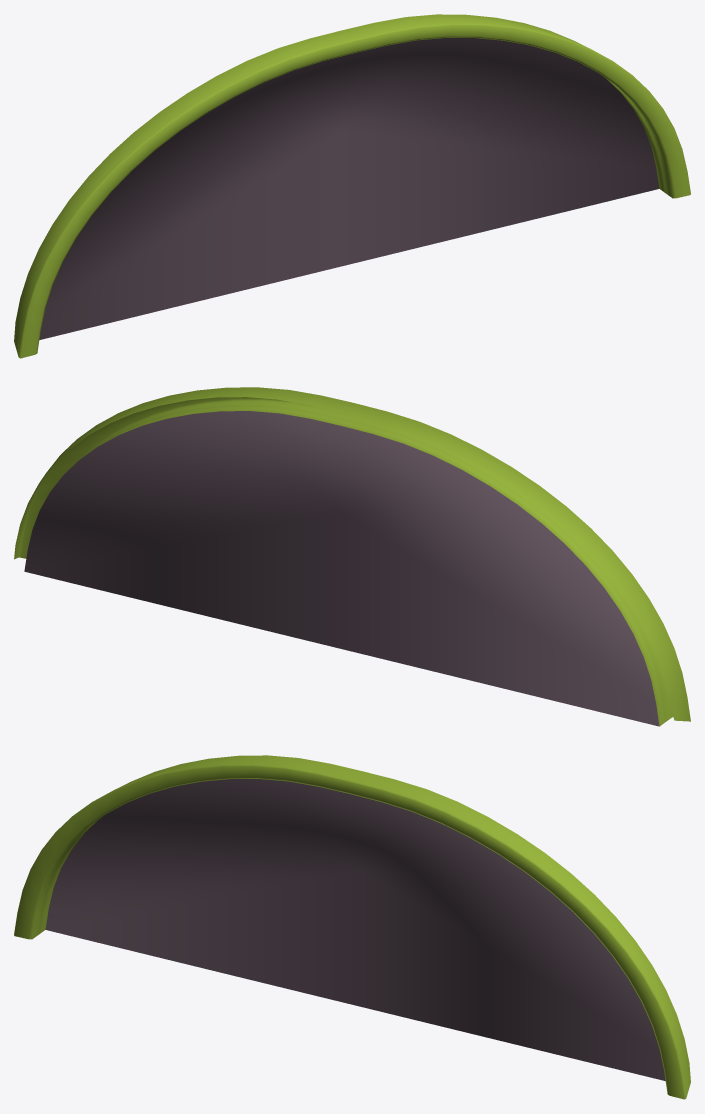
Rendered from Planet_Base.fbx.
3 renders of one model, top to bottom at view 1: azimuth 30°, elevation 25°; view 2: azimuth 150°, elevation 25°; view 3: azimuth 330°, elevation 25°, orthographic.
Parts seen in each view (by area): view 1: Sphere; view 2: Sphere; view 3: Sphere.
Boxes of the visible parts, x1,y1,x2,y2 form: Sphere: [14, 14, 690, 358]; Sphere: [14, 387, 690, 726]; Sphere: [14, 755, 690, 1099].
Size of the model in its own units: 5500 by 1852 by 198.
